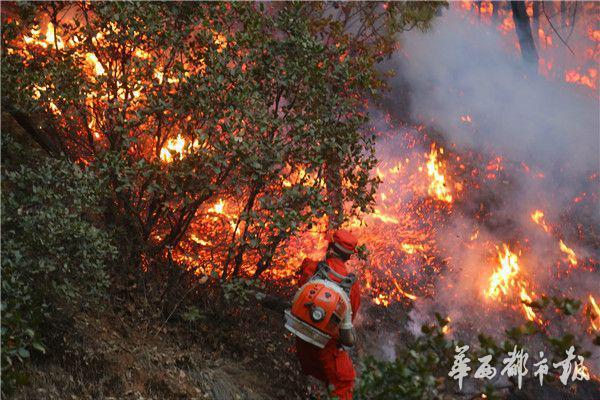fire: (363, 138, 598, 325), (2, 5, 220, 155), (169, 166, 354, 279), (449, 4, 598, 87)
